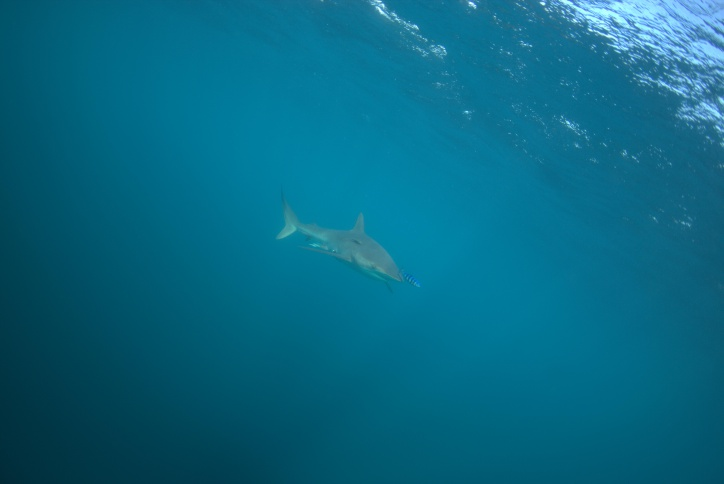Sedoso: (246, 176, 410, 304)
